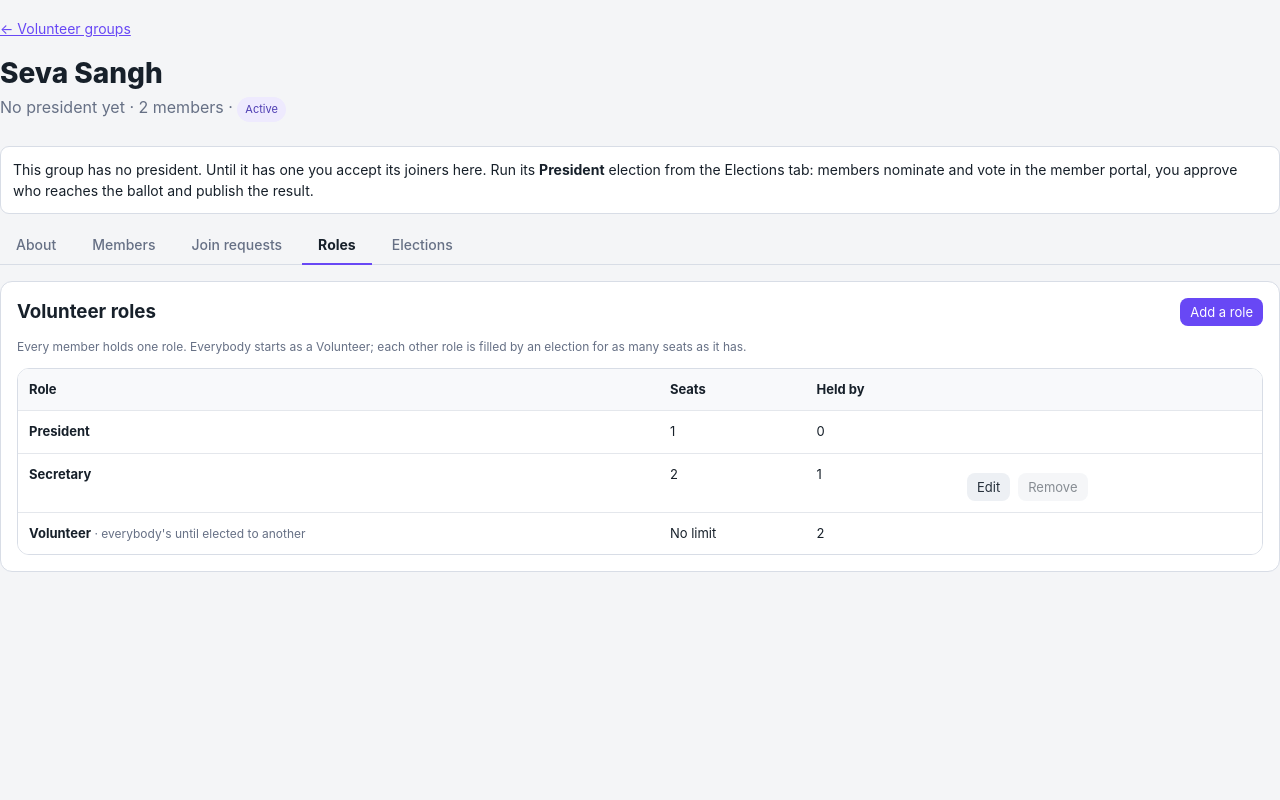
GroupElectionsComponent › adds a role from a popup, which closes once it is saved
The image size is (1280, 800).
Click the button "Add a role" at [1222, 312], box [1180, 298, 1263, 326]
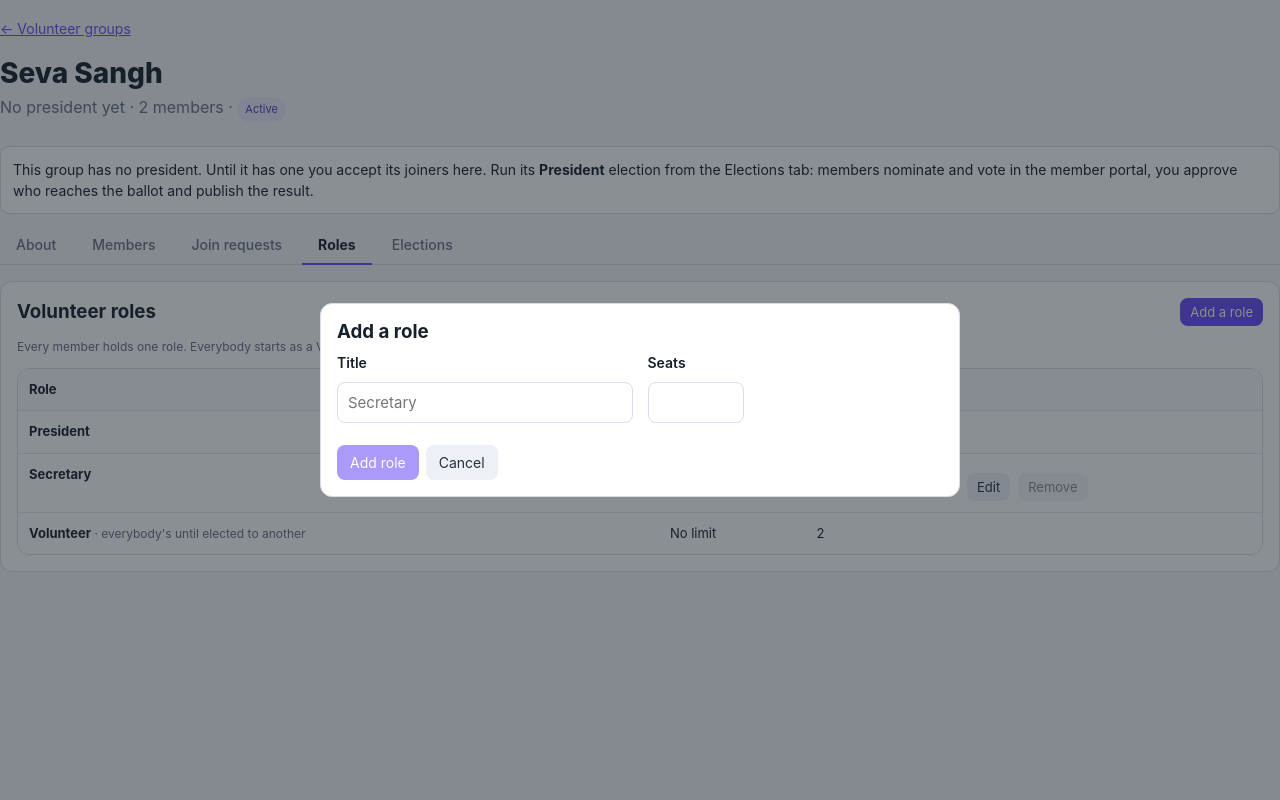
Expected: the field with id "new-role-title" is shown, [337, 382, 632, 423]
